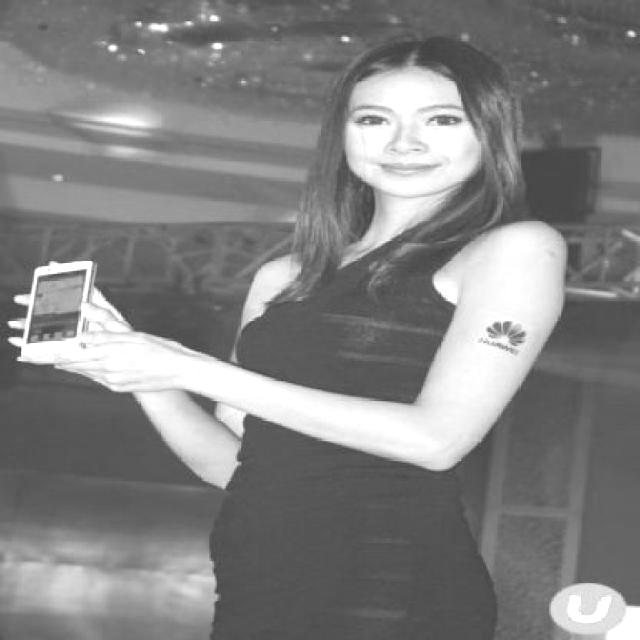fake: (17, 257, 106, 363)
real: (339, 72, 484, 195), (343, 97, 472, 142)
